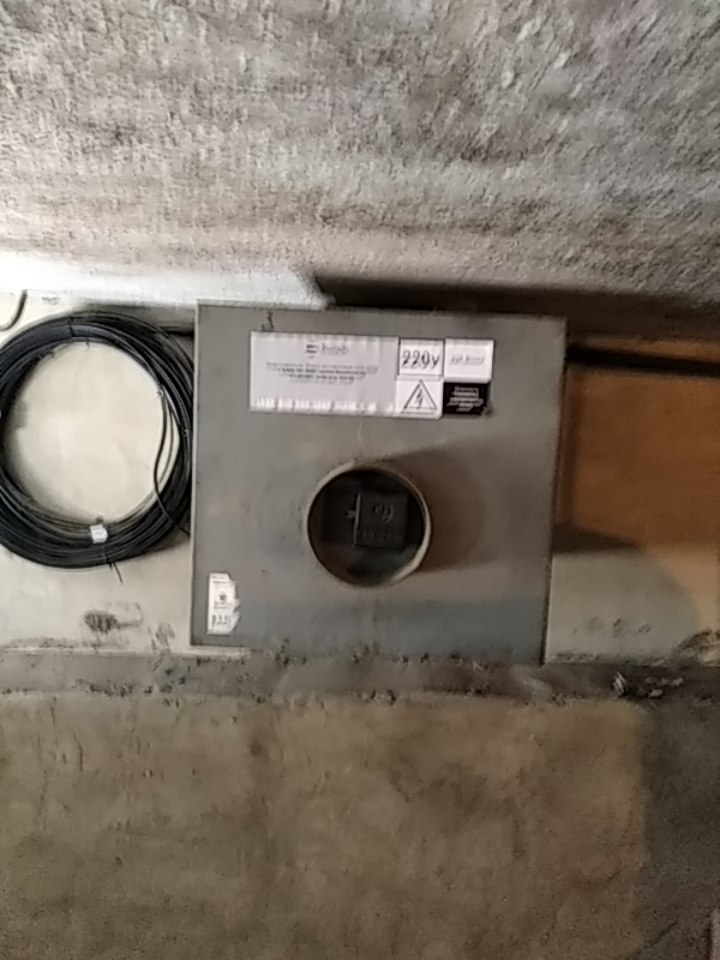shta-9: (164, 276, 596, 681)
